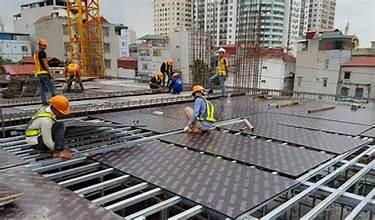Helmet: (50, 95, 72, 120), (60, 60, 83, 78), (191, 86, 211, 98), (34, 36, 49, 51), (215, 44, 226, 57), (154, 71, 164, 81), (163, 57, 174, 66), (172, 72, 183, 78)
Person: (22, 103, 72, 160), (27, 39, 56, 101), (182, 96, 218, 139), (62, 63, 87, 98), (213, 56, 230, 97), (161, 56, 172, 92), (171, 77, 184, 94), (153, 80, 163, 95)
Safety Vest: (27, 106, 54, 141), (193, 97, 217, 130), (31, 52, 51, 76), (215, 56, 228, 77)
